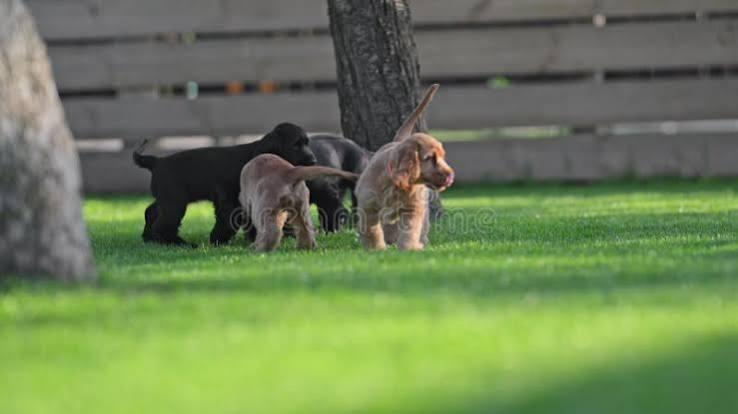puppy-dog: (132, 122, 316, 248), (353, 82, 455, 252), (239, 153, 360, 254), (283, 133, 373, 234)
